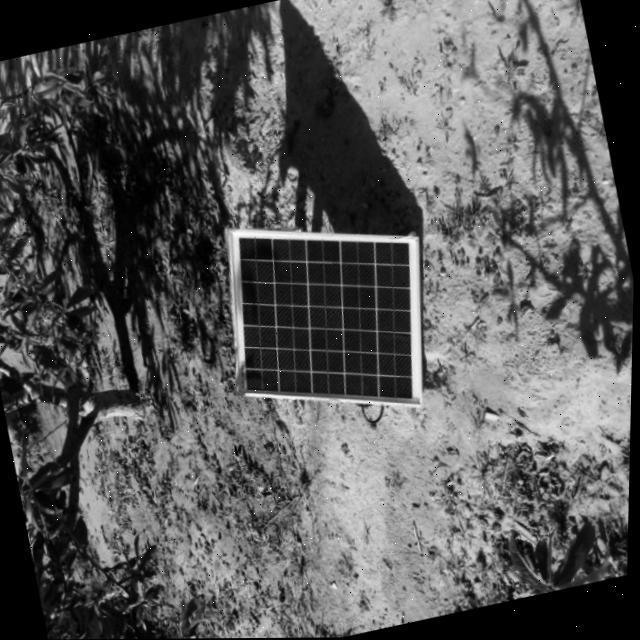Normal Solar Panel: (206, 192, 454, 448)
